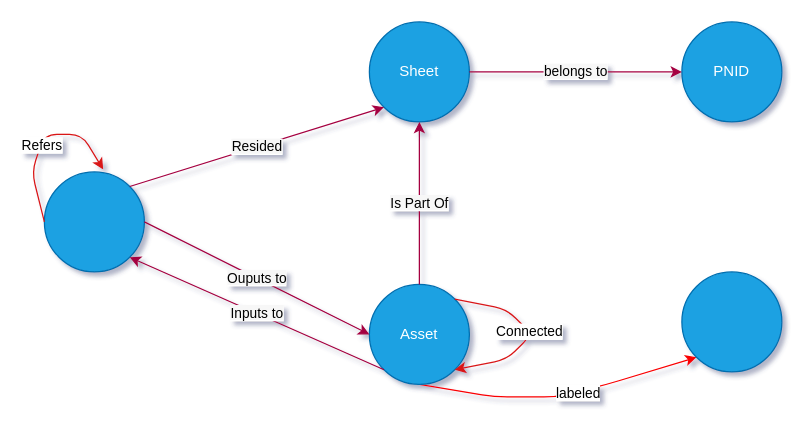
Some shapes in this 811 by 436 pixel diagram are drawn without their labels. The box of each missing label's shape, as (x1, y1, x2, y2) in pixels:
AssetType: (681, 271, 782, 372)
Connector: (43, 171, 144, 272)
